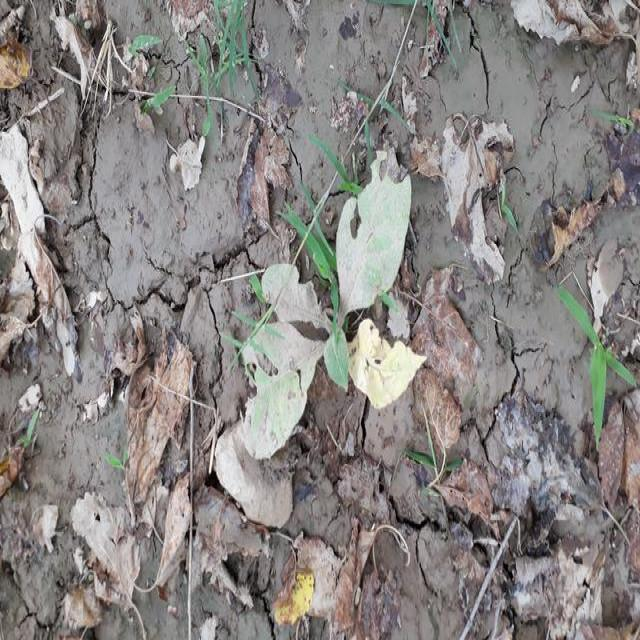crop: (238, 139, 439, 457)
